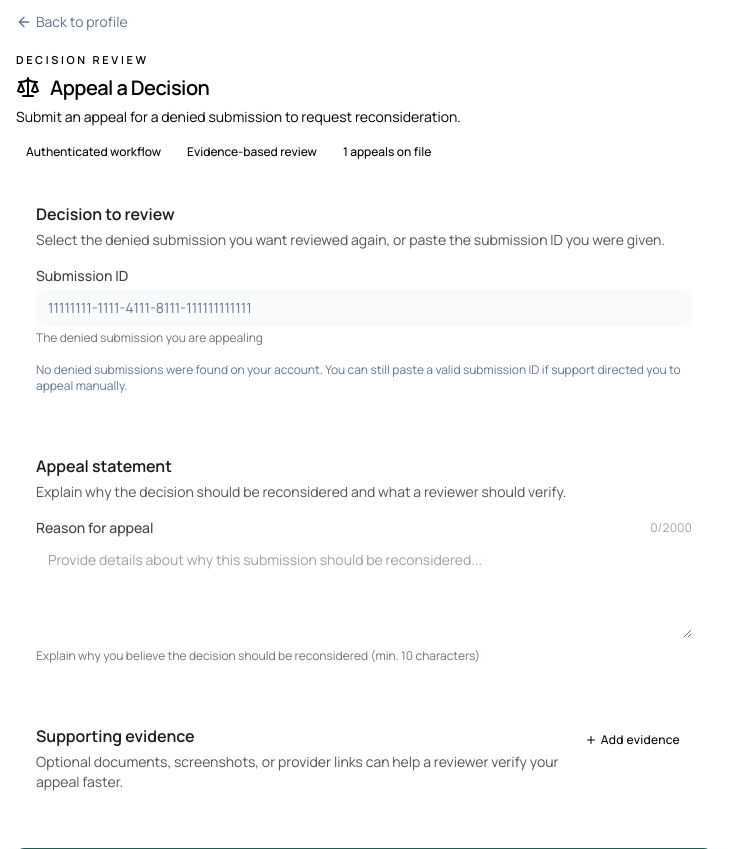
Test: AppealPageClient › supports evidence add/remove and renders unknown status/reviewer notes
Click the button "Add evidence".
click(632, 740)  # box [573,724,692,756]
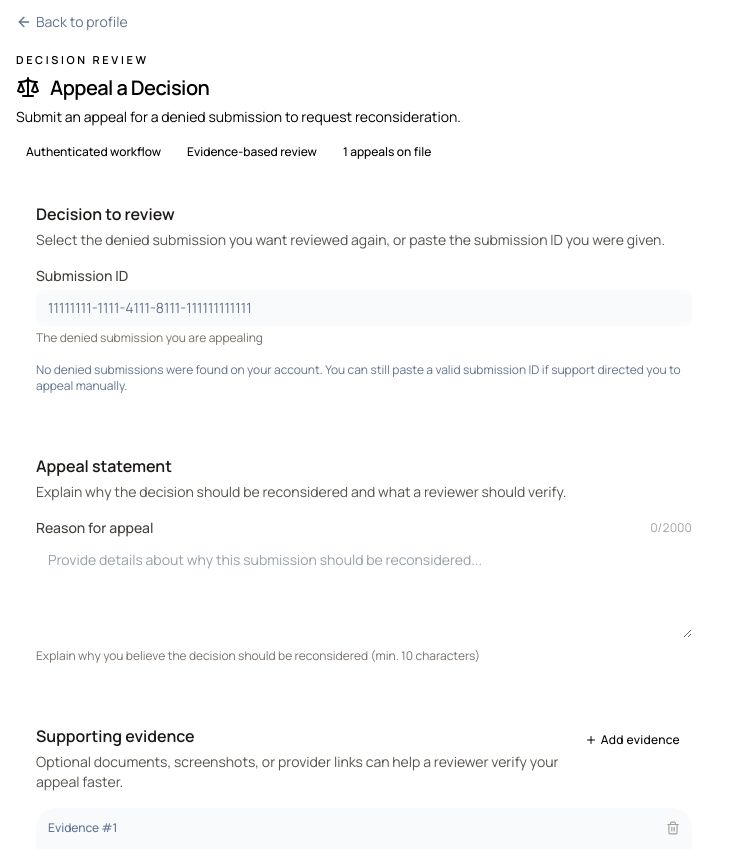
Now the text "Evidence #1" is shown, box [48,820,118,836]
Click the button named "Remove evidence 1".
click(673, 828)  # box [666,821,680,835]
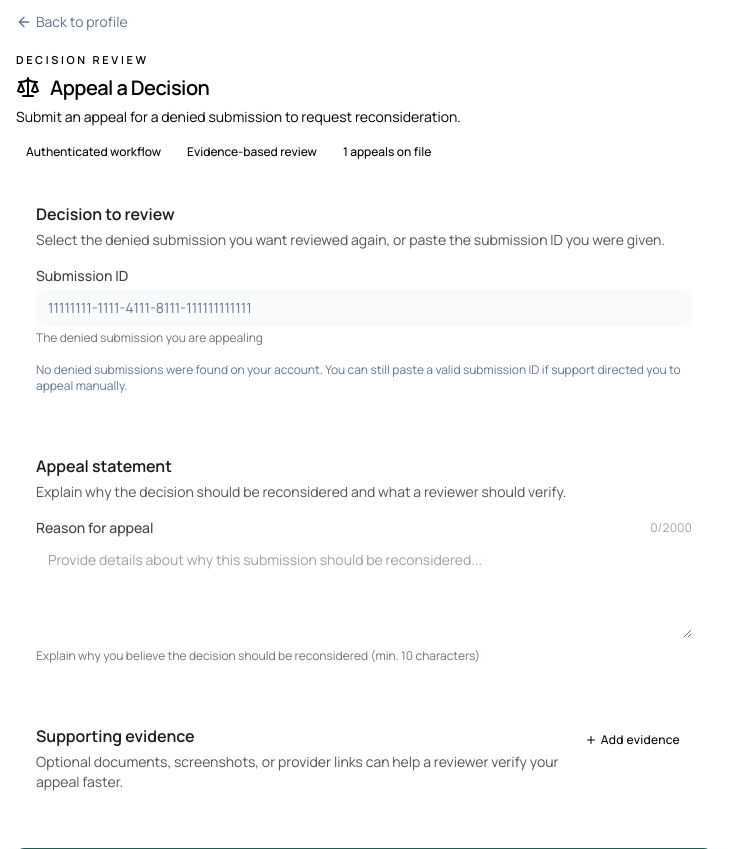
Now the text "Evidence #1" is gone
